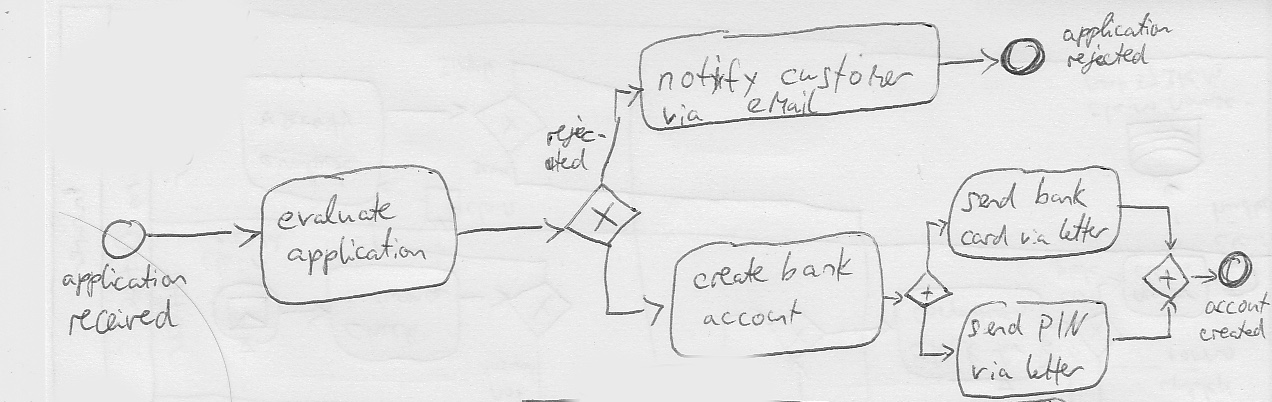PIN: (1031, 305, 1092, 347)
account: (697, 300, 805, 336)
accout: (1205, 287, 1271, 317)
application: (286, 230, 427, 279), (56, 264, 189, 301), (1059, 10, 1175, 44)
bank: (773, 248, 863, 291), (1035, 177, 1089, 212)
card: (960, 222, 1014, 250)
create: (688, 260, 774, 298)
created: (1193, 321, 1268, 349)
customer: (770, 48, 925, 93)
eMail: (746, 90, 818, 120)
evaluate: (274, 196, 396, 241)
letter: (1016, 349, 1093, 388), (1052, 216, 1108, 245)
notify: (657, 48, 762, 100)
received: (66, 300, 181, 339)
rejec-ted: (540, 116, 607, 176)
rejected: (1061, 41, 1152, 79)
send: (960, 181, 1031, 216), (967, 311, 1026, 341)
via: (650, 101, 706, 136), (969, 357, 1016, 384), (1017, 220, 1049, 247)
